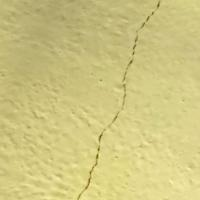crack: (70, 0, 166, 199)
